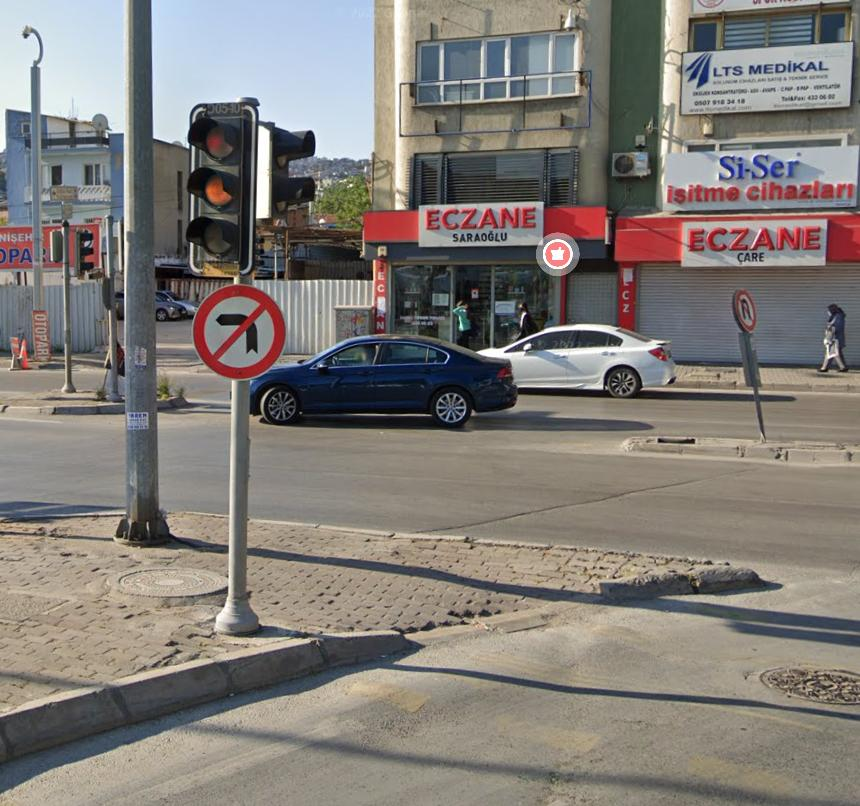rightturnsareforbidden: (196, 285, 278, 374)
yellowlight: (190, 100, 251, 266)
